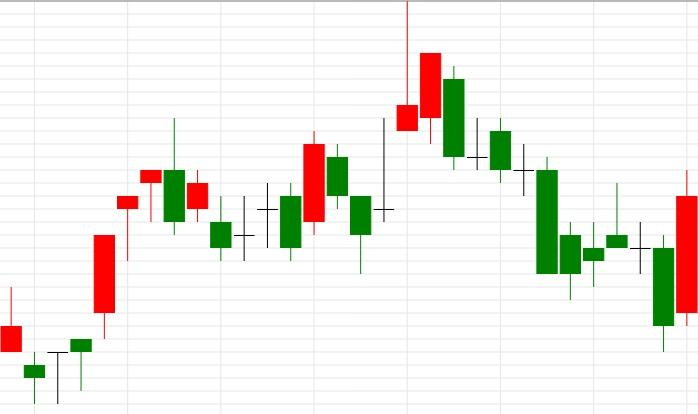bearish_engulfing_fall: (24, 117, 186, 403)
hanging_man_fall: (24, 169, 163, 403), (24, 196, 139, 403)
shooting_star_fall: (349, 0, 419, 274), (559, 182, 628, 300)
